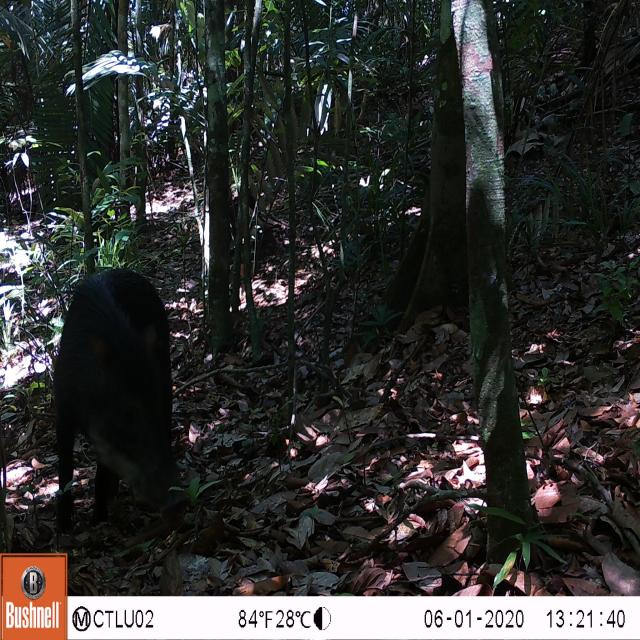White-lipped Peccary: (43, 260, 186, 535)
